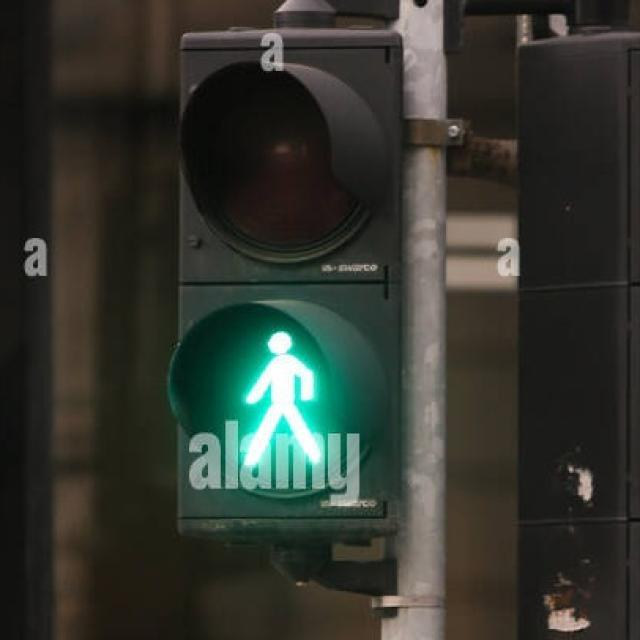green-light: (237, 320, 329, 477)
